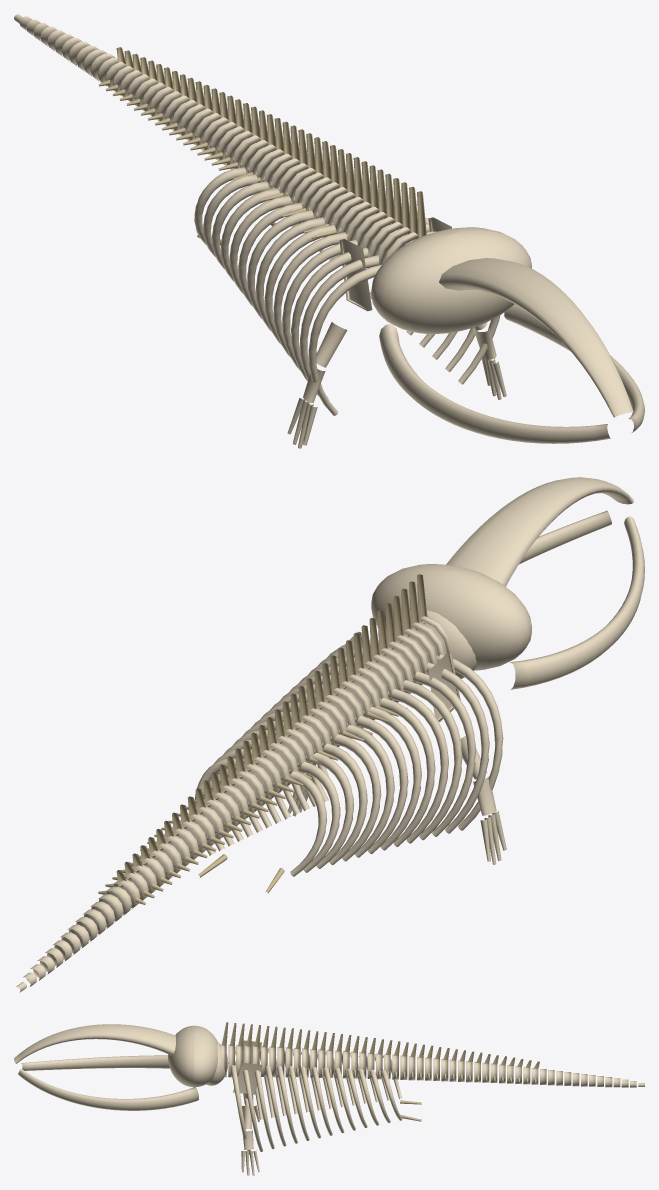
Rendered from nordkaper_skeleton.glb.
3 views of the same model, one above another, from view 1: azimuth 30°, elevation 25°; view 2: azimuth 150°, elevation 25°; view 3: azimuth 270°, elevation 25° (orthographic). The views are drawn at different scales.
Visible parts, largest first — view 1: Nordkaper skeleton; view 2: Nordkaper skeleton; view 3: Nordkaper skeleton.
Boxes of the visible parts, bbox=[...] form: Nordkaper skeleton: bbox=[14, 14, 644, 448]; Nordkaper skeleton: bbox=[16, 477, 644, 992]; Nordkaper skeleton: bbox=[14, 1022, 644, 1175].
Bounding box in the file's own units: 2.52 × 2.92 × 13.05.
